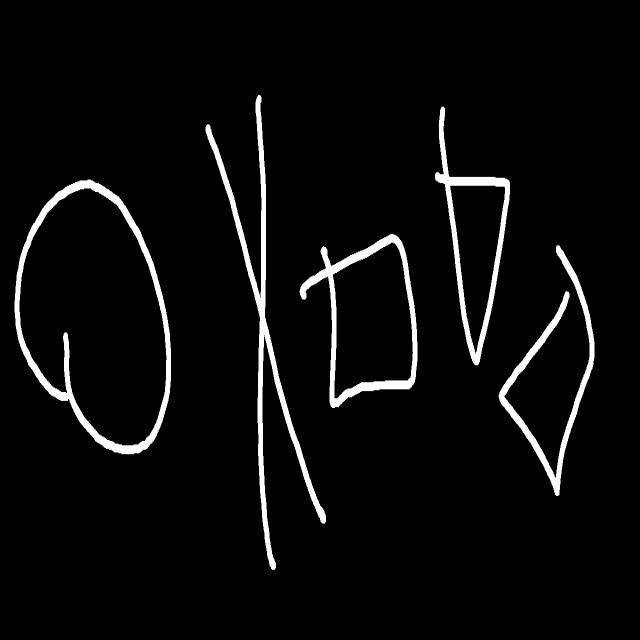Circle: (14, 180, 171, 453)
Cross: (206, 96, 326, 569)
Diamond: (497, 243, 593, 491)
Square: (300, 235, 418, 407)
Triangle: (435, 107, 510, 364)
